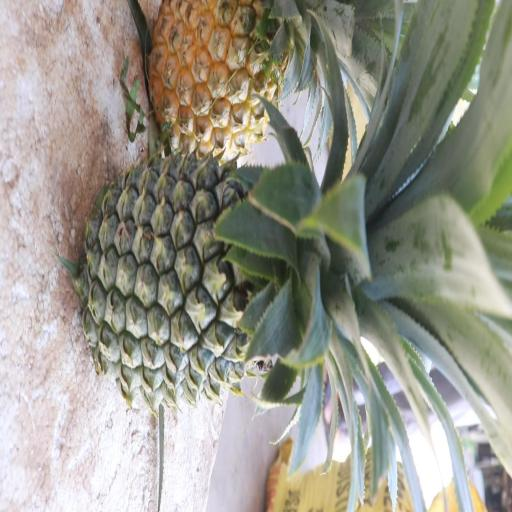Pineapple - v8 v1: (150, 0, 305, 158)
